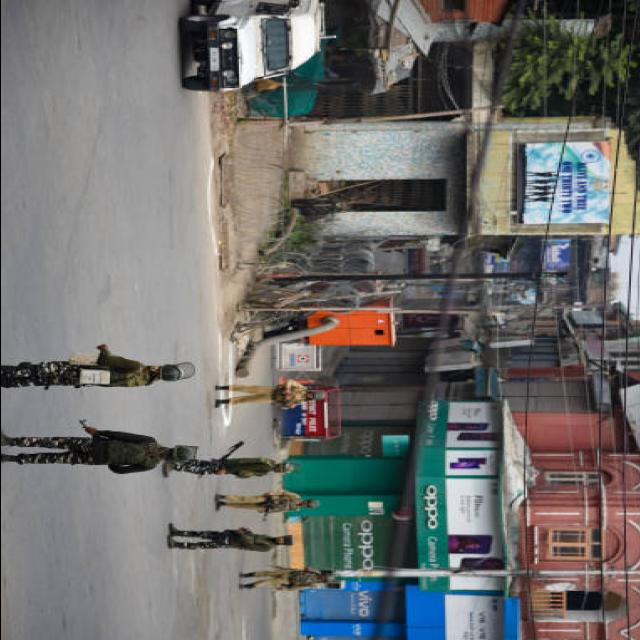LMV: (181, 0, 322, 91)
soldier: (0, 419, 199, 476), (0, 342, 194, 389), (161, 440, 293, 480), (169, 523, 292, 551), (214, 490, 319, 522), (214, 380, 323, 410), (238, 566, 332, 592)
